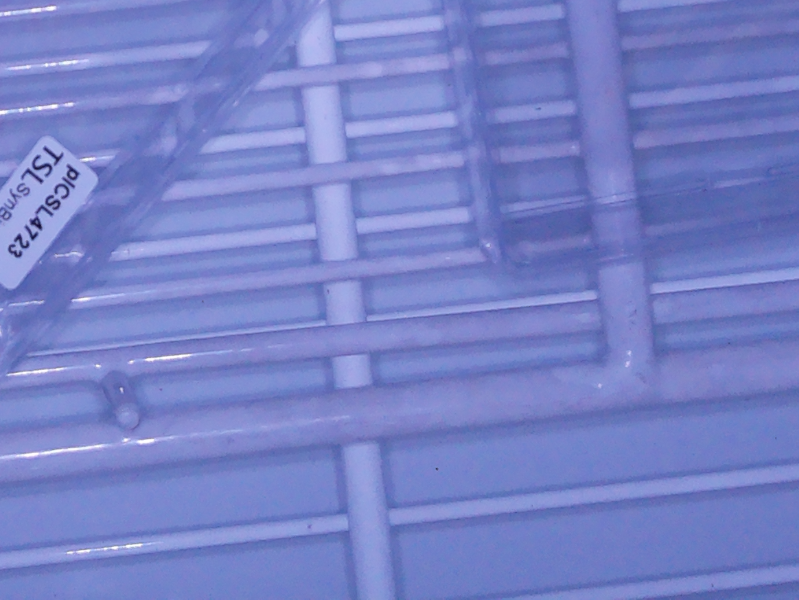plate: (1, 1, 325, 387), (441, 1, 799, 294)
